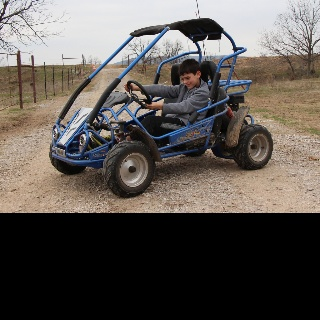without_mask: (180, 72, 197, 89)
